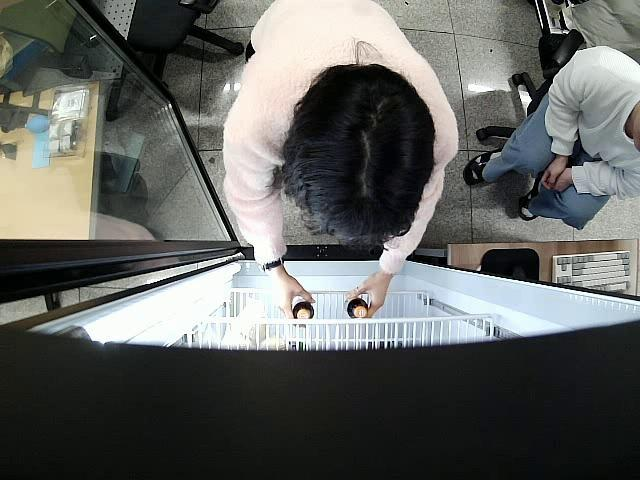17_vita500: (341, 296, 370, 322), (289, 299, 314, 328)
